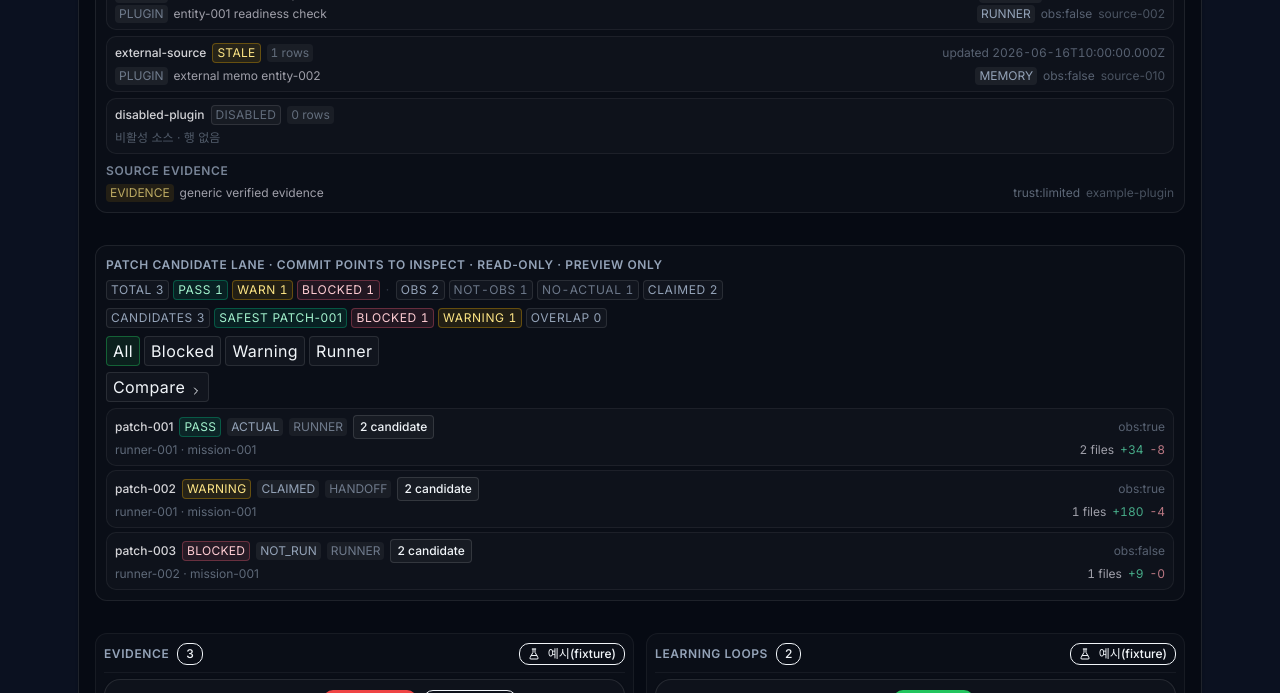
Batch 17 LINE D — patch lane filters (local-view) › Blocked filter lists only blocked candidates; All restores
This screenshot has width=1280, height=693.
(page scrolled)
Click the button with test id "patch-ctl-blocked".
click(183, 351)  # box [144,336,221,366]
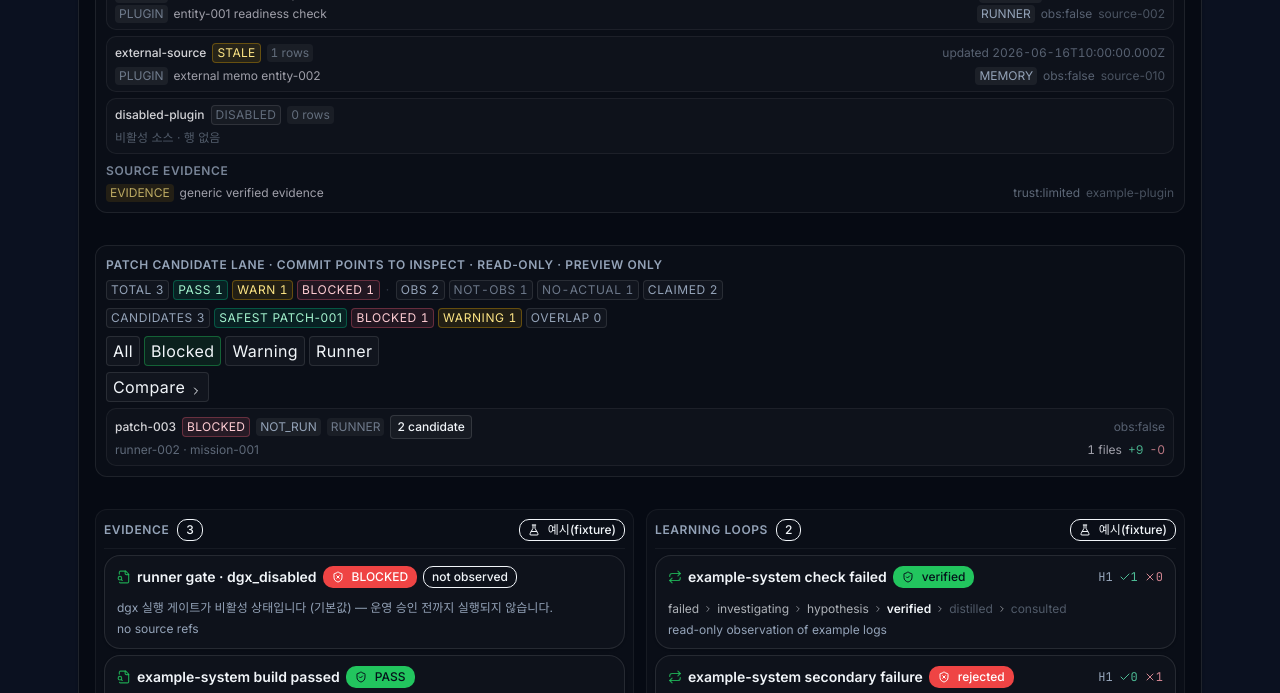
Expected: the button with test id "patch-candidate-patch-003" is shown, [106,408,1174,466]
Expected: the button with test id "patch-candidate-patch-001" is gone
Click the button with test id "patch-ctl-all".
click(123, 351)  # box [106,336,140,366]
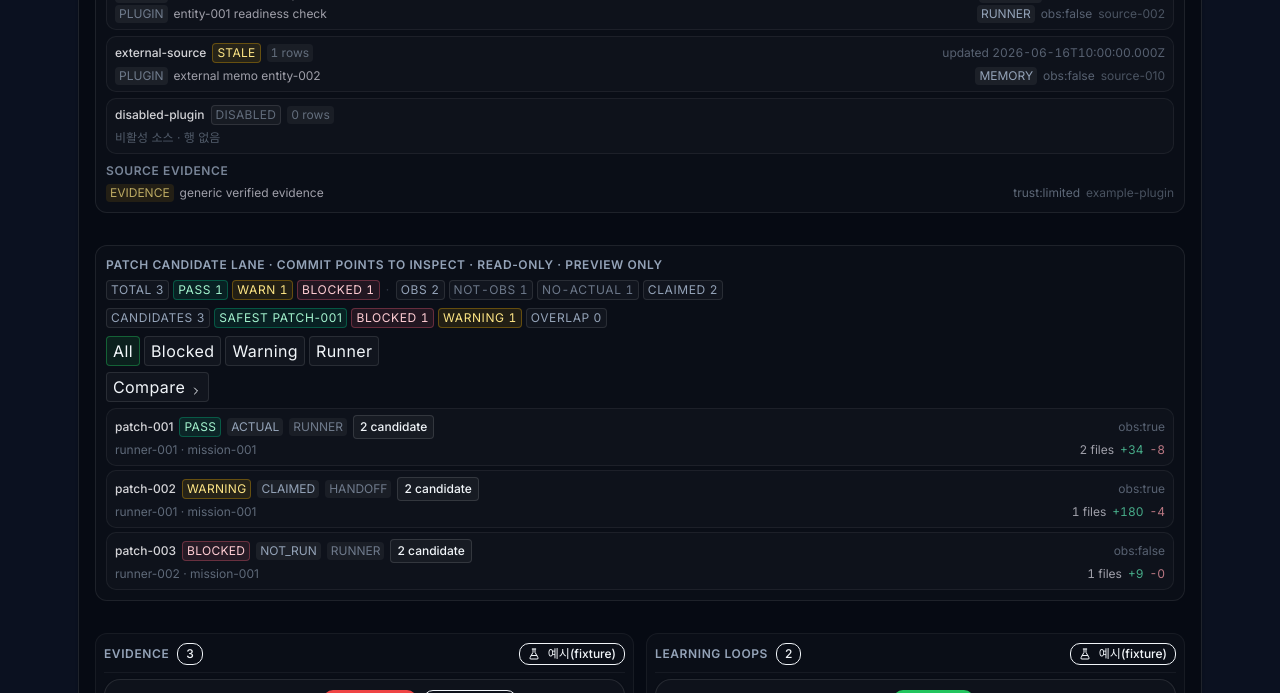
Expected: the button with test id "patch-candidate-patch-001" is shown, [106,408,1174,466]
